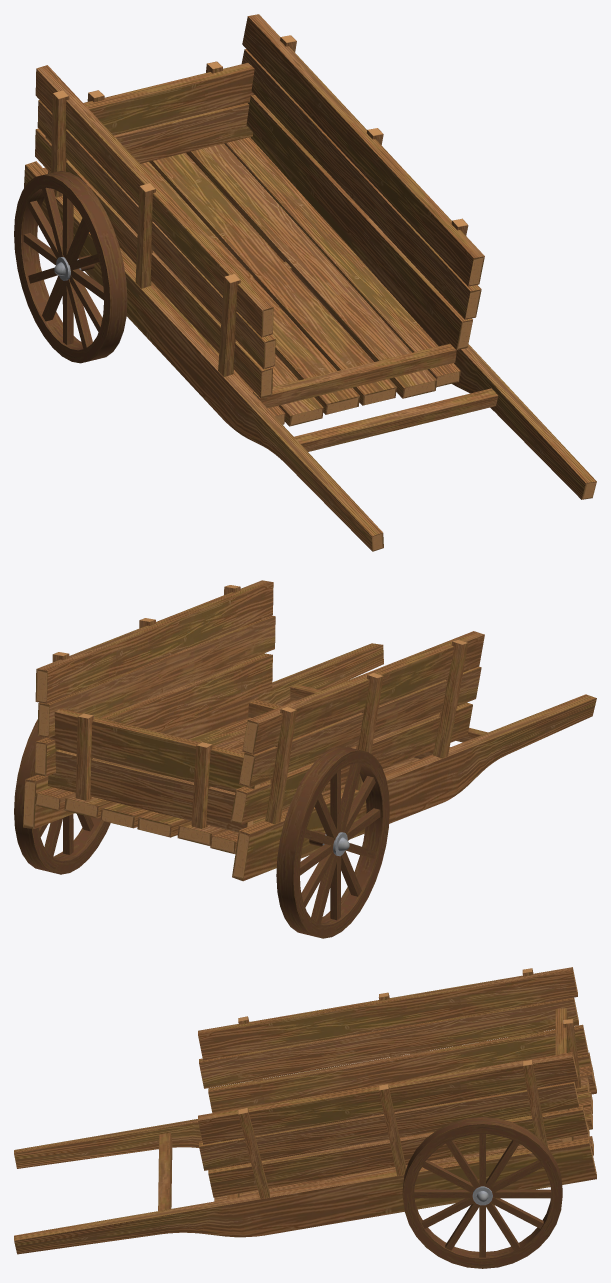
File: prop_wagon.glb
3 renders of one model, top to bottom at view 1: azimuth 30°, elevation 25°; view 2: azimuth 150°, elevation 25°; view 3: azimuth 270°, elevation 25°, orthographic. The views are drawn at different scales.
Parts seen in each view (by area): view 1: Prop_Wagon; view 2: Prop_Wagon; view 3: Prop_Wagon.
Boxes of the visible parts, bbox=[...] form: Prop_Wagon: bbox=[14, 14, 596, 551]; Prop_Wagon: bbox=[14, 580, 596, 938]; Prop_Wagon: bbox=[14, 967, 596, 1268].
Size of the model in its own units: 1.95 by 1.53 by 4.02.
1 material, 1 textured.
